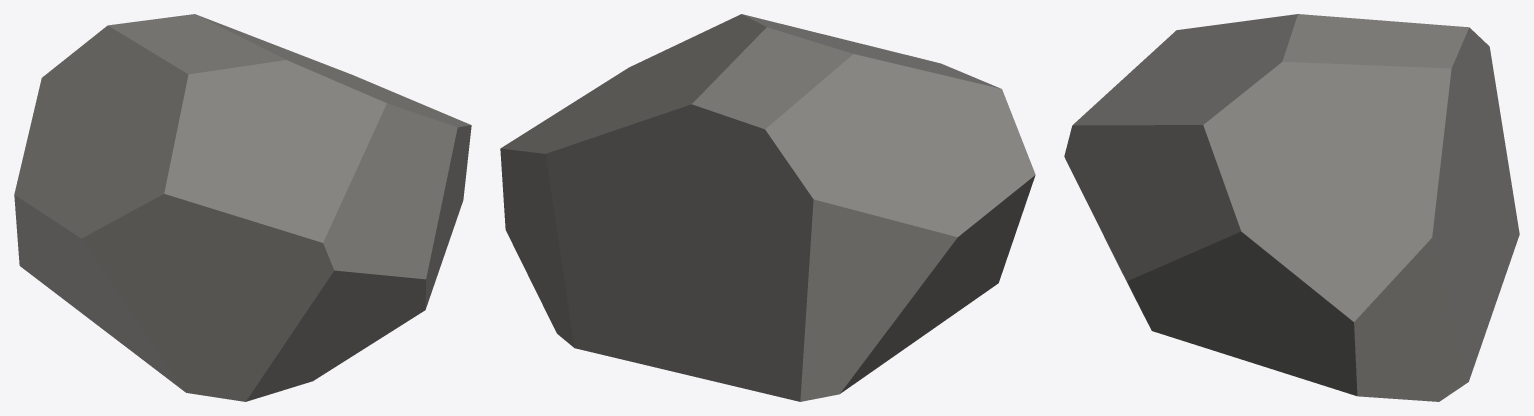
Rendered from Stone1.fbx.
The picture shows the model from 3 angles, left to right: view 1: azimuth 30°, elevation 25°; view 2: azimuth 150°, elevation 25°; view 3: azimuth 270°, elevation 25°; orthographic projection. The views are drawn at different scales.
Parts seen in each view (by area): view 1: Stone_01; view 2: Stone_01; view 3: Stone_01.
Part boxes in pixels (x1,y1,x2,y2): Stone_01: [14, 14, 471, 401]; Stone_01: [500, 14, 1035, 401]; Stone_01: [1064, 14, 1519, 401].
Bounding box in the file's own units: 95.73 × 54.72 × 80.9.
